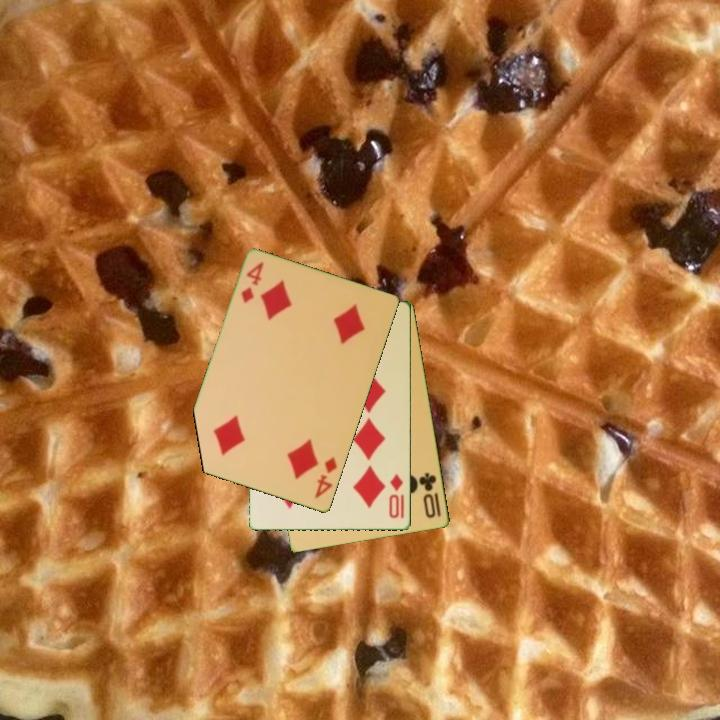10c: (416, 469, 444, 521)
10d: (386, 471, 407, 521)
4d: (311, 454, 340, 502), (238, 259, 267, 307)
